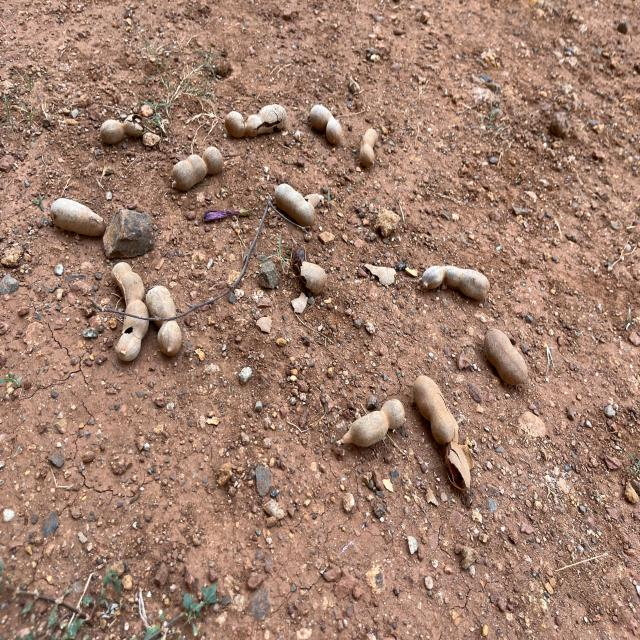tamarind: (414, 376, 471, 491), (113, 262, 148, 364), (340, 399, 406, 448), (484, 326, 528, 387), (422, 264, 490, 302), (146, 286, 183, 354), (51, 198, 106, 240), (172, 145, 223, 189), (225, 104, 286, 140), (273, 182, 315, 227), (292, 242, 325, 294), (309, 104, 344, 146), (102, 112, 142, 142), (360, 126, 376, 168)
